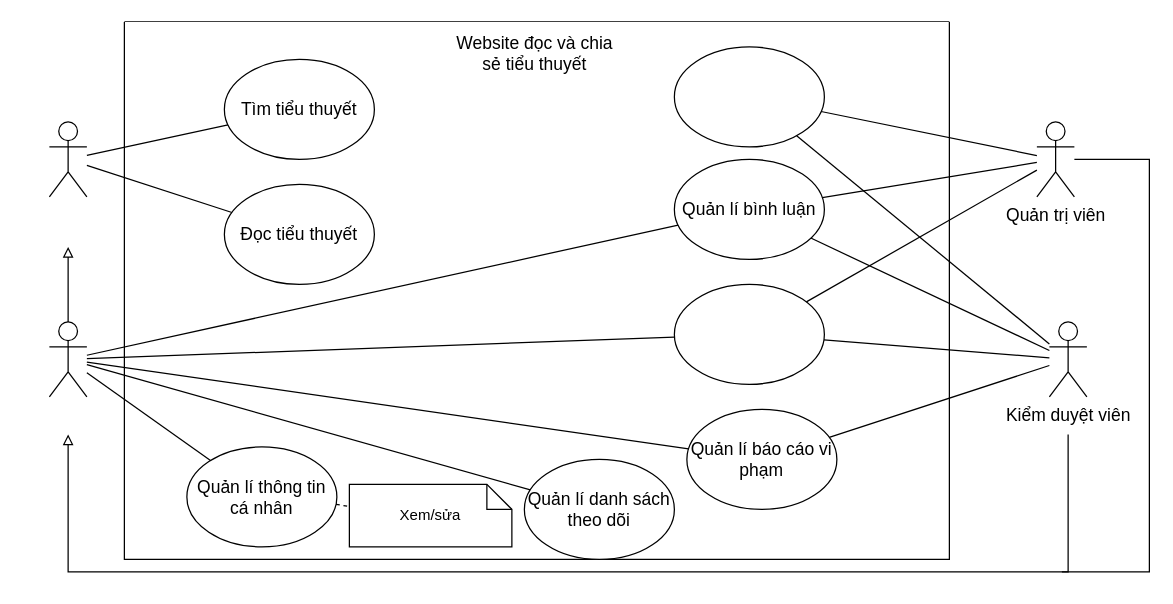
Some shapes in this 1173 by 604 pixel diagram are drawn without their labels. The shapes that lost their labels are listed below. From the top down, each one's centre as x and y in pixels, then its label:
At (748,96): "Quản lí tài khoản trên hệ thống".
At (67,159): "Khách vãng lai".
At (748,333): "Quản lí tiểu thuyết".
At (67,359): "Thành viên".
